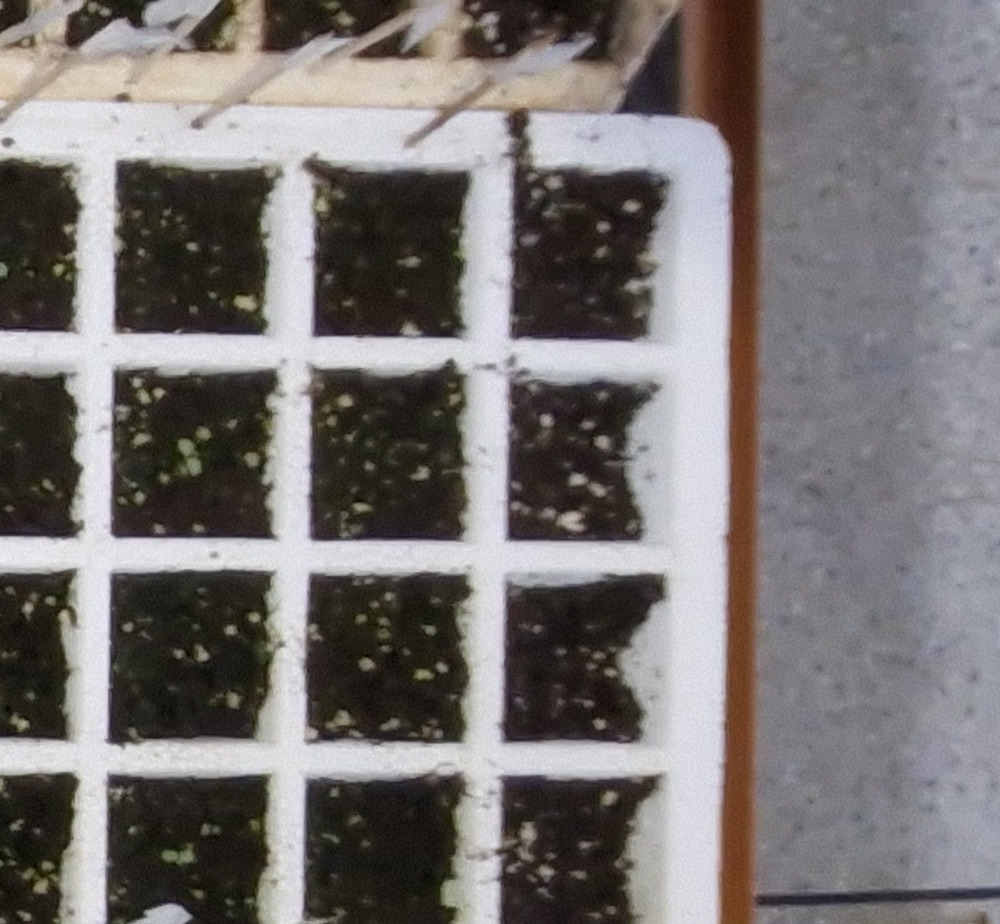Folha: (187, 457, 202, 475), (179, 439, 194, 456), (160, 851, 178, 863), (179, 851, 195, 862)
Germinacao: (176, 437, 202, 475), (163, 850, 195, 865), (0, 250, 8, 279)
